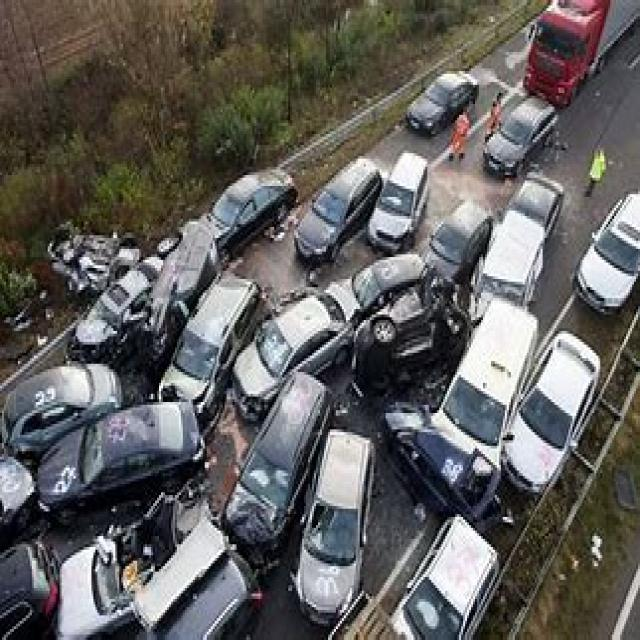Accident: (19, 101, 640, 640)
